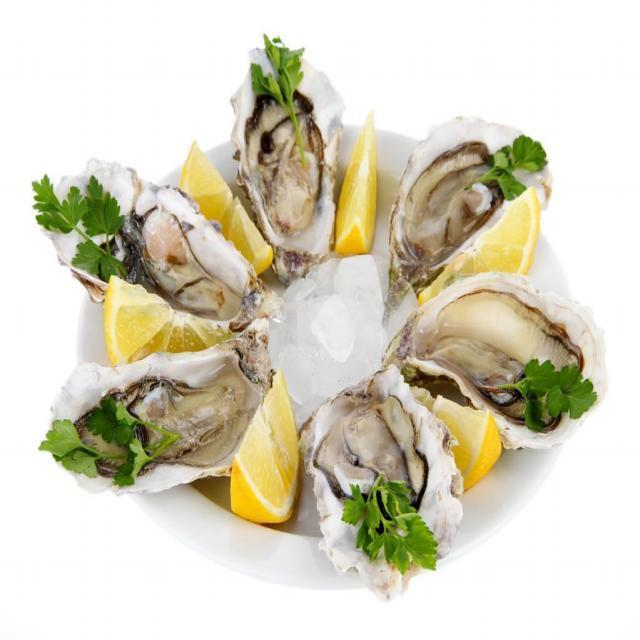Oyster-Open: (294, 356, 469, 606), (378, 263, 605, 455), (30, 150, 264, 334), (37, 335, 276, 503), (387, 109, 552, 320), (224, 25, 348, 267)
